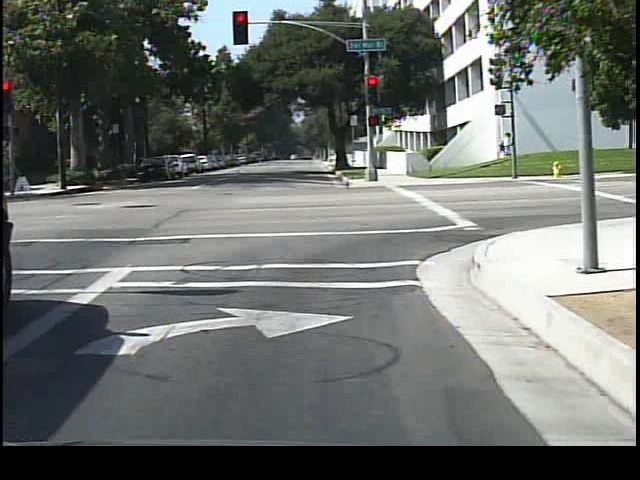person: (491, 128, 515, 174)
